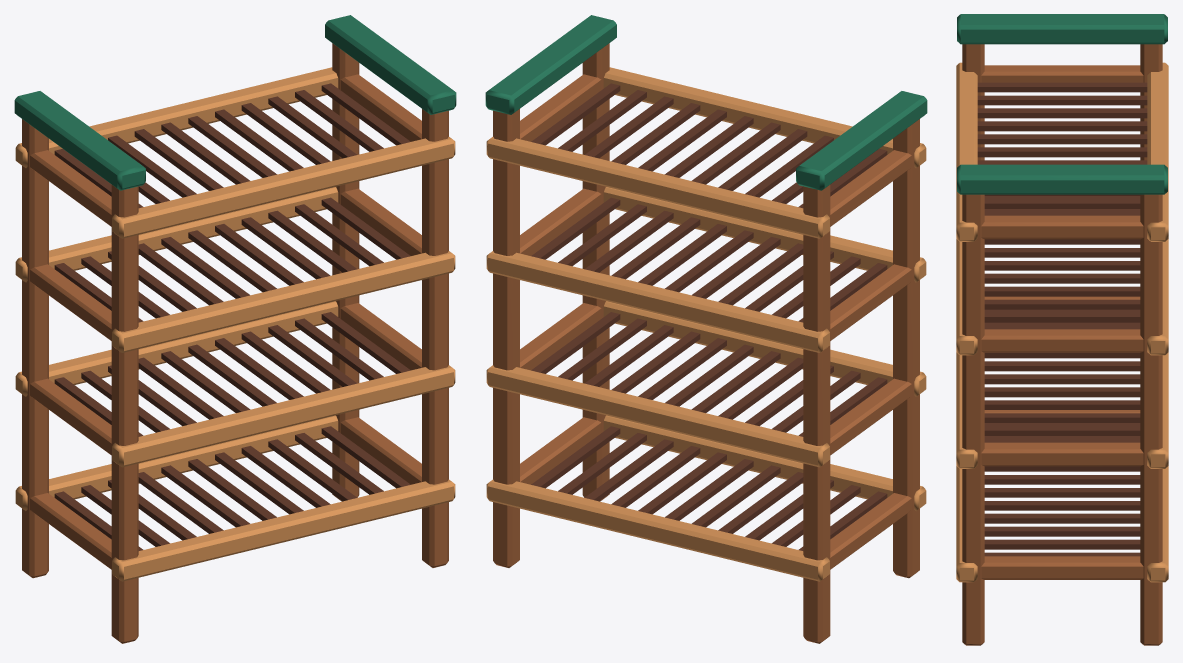
File: drying_rack.glb
The picture shows the model from 3 angles, left to right: view 1: azimuth 30°, elevation 25°; view 2: azimuth 150°, elevation 25°; view 3: azimuth 270°, elevation 25°; orthographic projection.
Visible parts, largest first — view 1: DryingRack; view 2: DryingRack; view 3: DryingRack.
Part boxes in pixels (left/top/right/bottom): DryingRack: left=14, top=15, right=456, bottom=643; DryingRack: left=485, top=15, right=927, bottom=643; DryingRack: left=956, top=14, right=1168, bottom=645.
Size of the model in its own units: 1.18 by 1.58 by 0.645.
